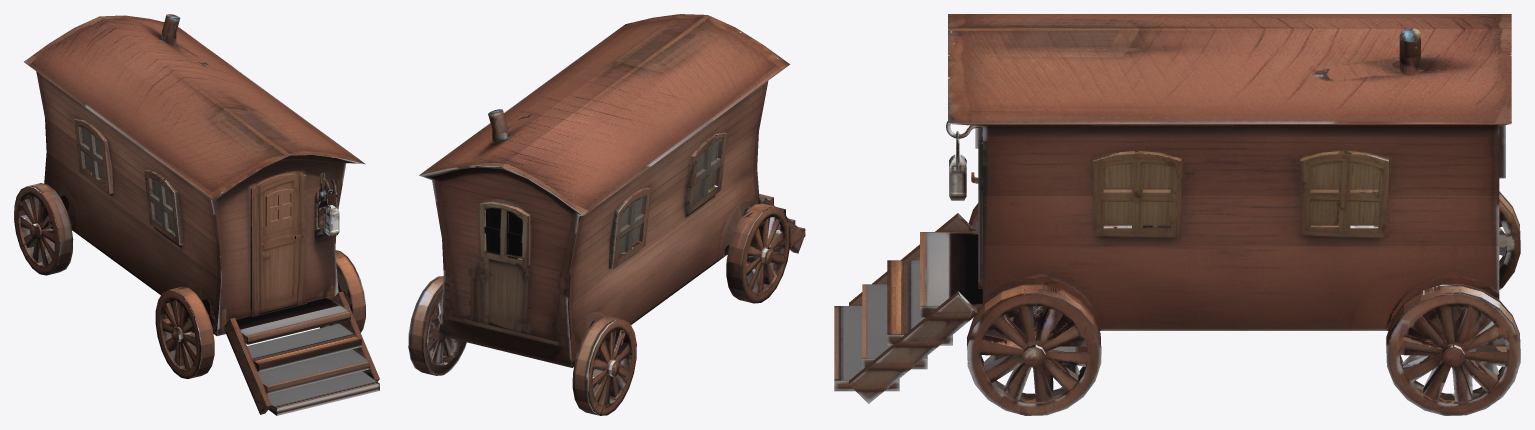
File: textured_syncmvd.glb
The picture shows the model from 3 angles, left to right: view 1: azimuth 30°, elevation 25°; view 2: azimuth 150°, elevation 25°; view 3: azimuth 270°, elevation 25°; orthographic projection. The views are drawn at different scales.
Parts seen in each view (by area): view 1: Node; view 2: Node; view 3: Node.
Part boxes in pixels (bbox=[...]): Node: bbox=[14, 14, 379, 415]; Node: bbox=[408, 14, 805, 415]; Node: bbox=[834, 14, 1520, 415].
Bounding box in the file's own units: 0.853 × 1.16 × 2.
Materials: 1 (1 with a texture image).
